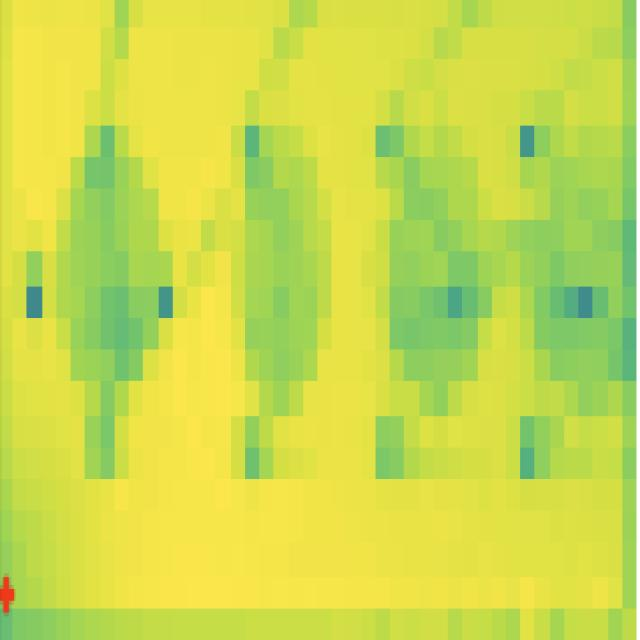Concrete: (211, 91, 337, 494)
Glass: (50, 102, 176, 490)
Metal: (356, 83, 498, 505)
Wood: (519, 80, 634, 490)
